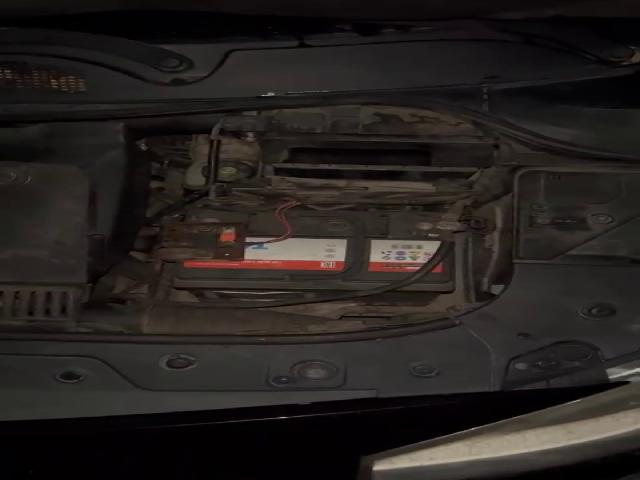accumulator: (154, 206, 462, 306)
